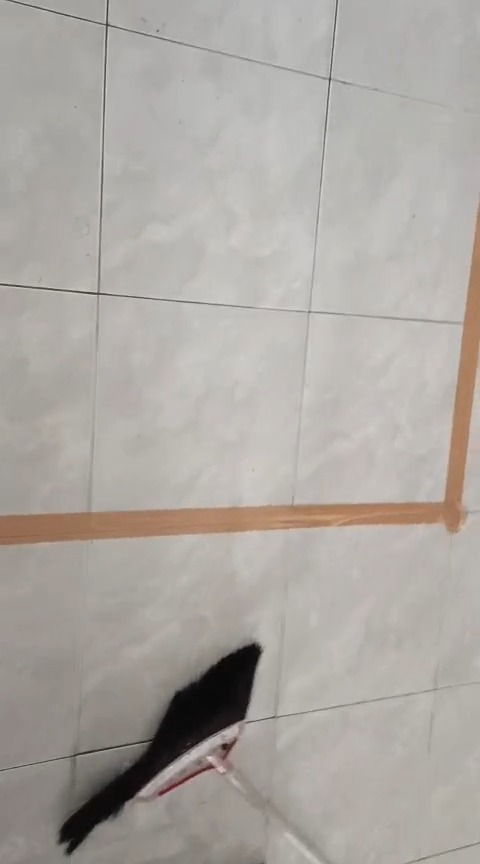floor marking: (0, 205, 479, 545)
